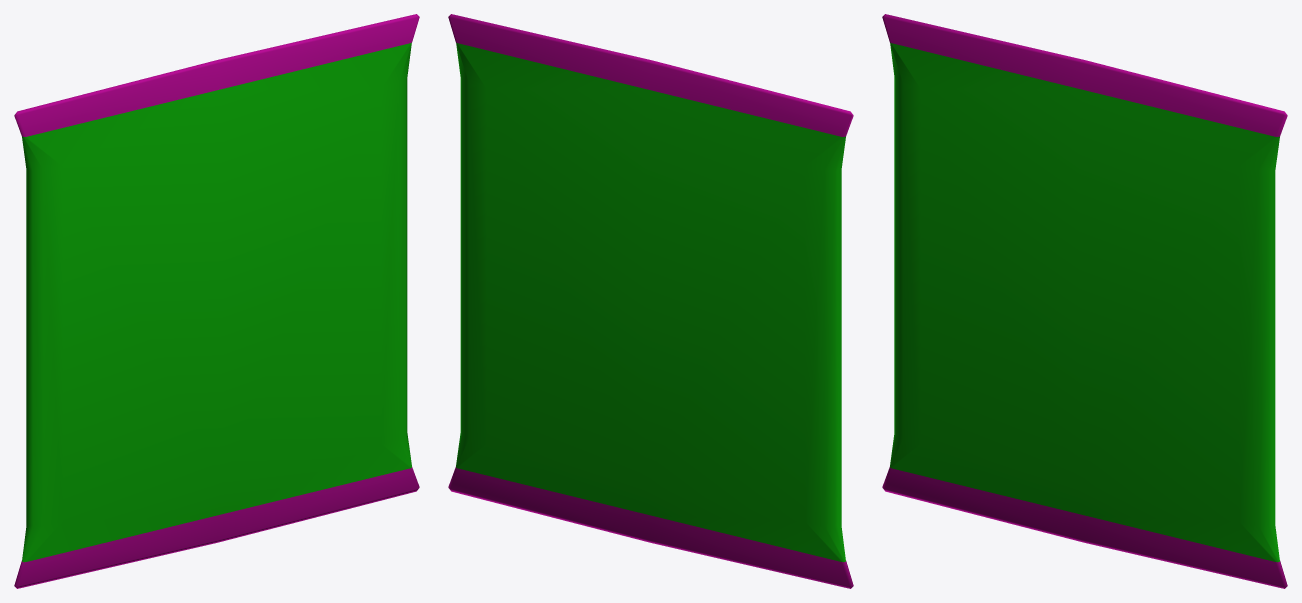
The model's file is Gim.fbx.
The picture shows the model from 3 angles, left to right: view 1: azimuth 30°, elevation 25°; view 2: azimuth 150°, elevation 25°; view 3: azimuth 330°, elevation 25°; orthographic projection.
Visible parts, largest first — view 1: Kim; view 2: Kim; view 3: Kim.
Boxes of the visible parts, x1,y1,x2,y2 form: Kim: (14,14,419,588); Kim: (448,14,853,588); Kim: (882,14,1287,588).
Bounding box in the file's own units: 28.05 × 1.36 × 31.93.
